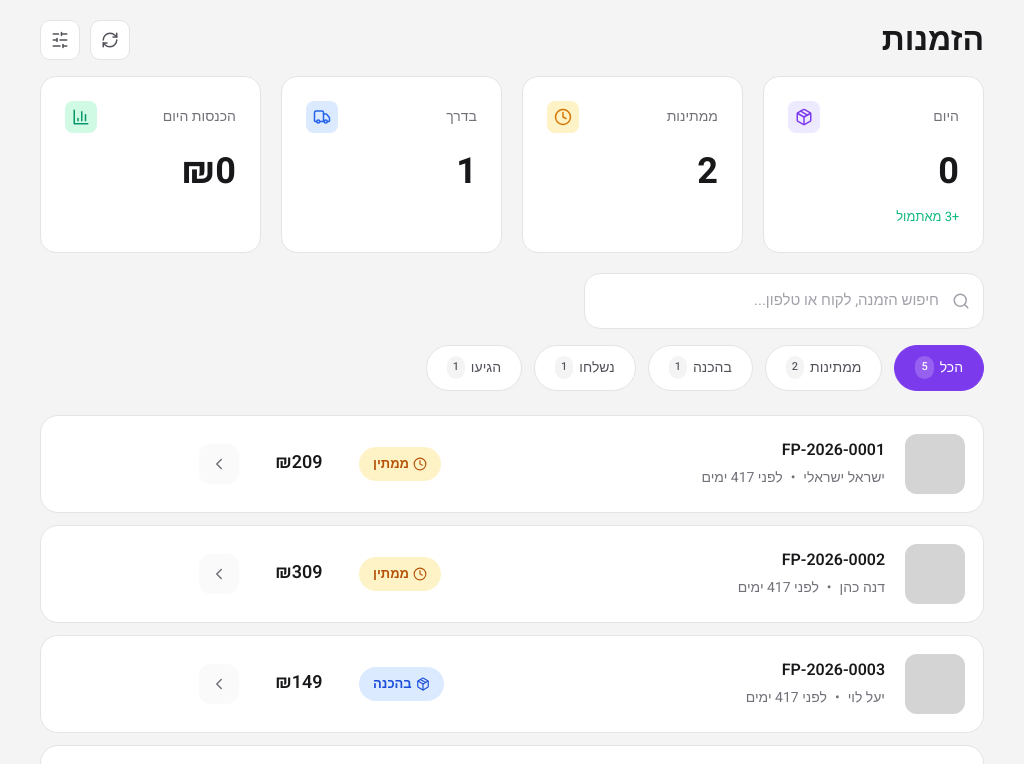
it: AdminOrdersPage › Empty State › shows empty state when no orders match filter
In the field with placeholder "חיפוש הזמנה, לקוח או טלפון...": [784, 301] box top-left (584, 273), bottom-right (984, 329), type "nonexistent12345"
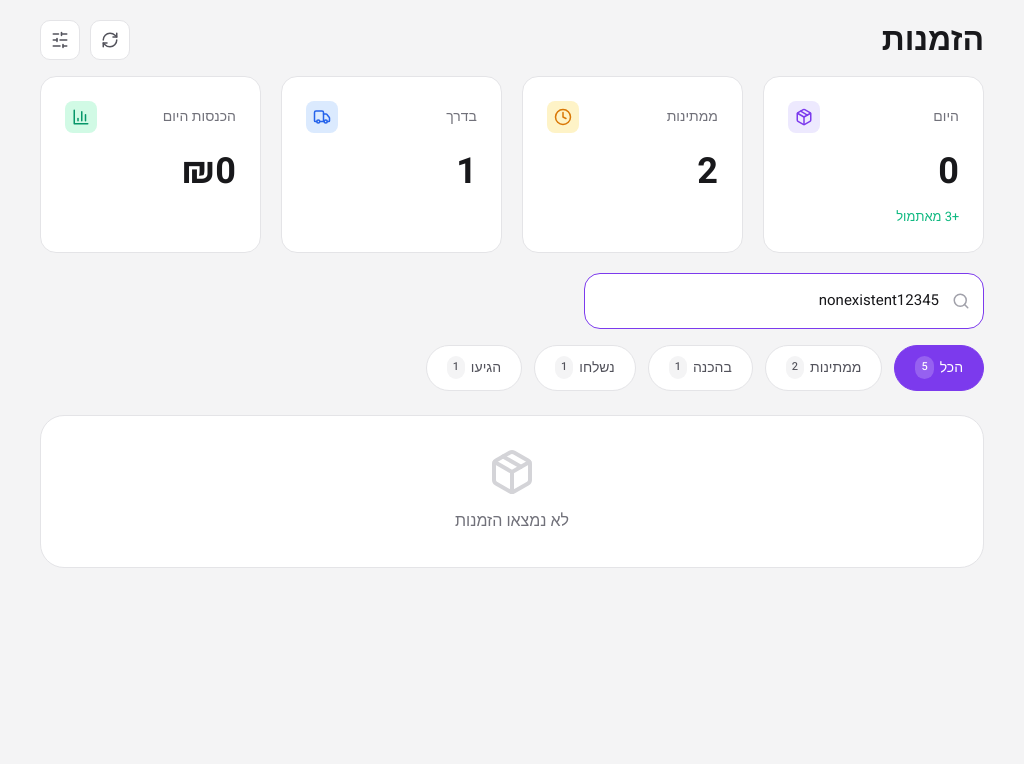
Check: the text "לא נמצאו הזמנות" is shown, box top-left (455, 509), bottom-right (569, 533)
